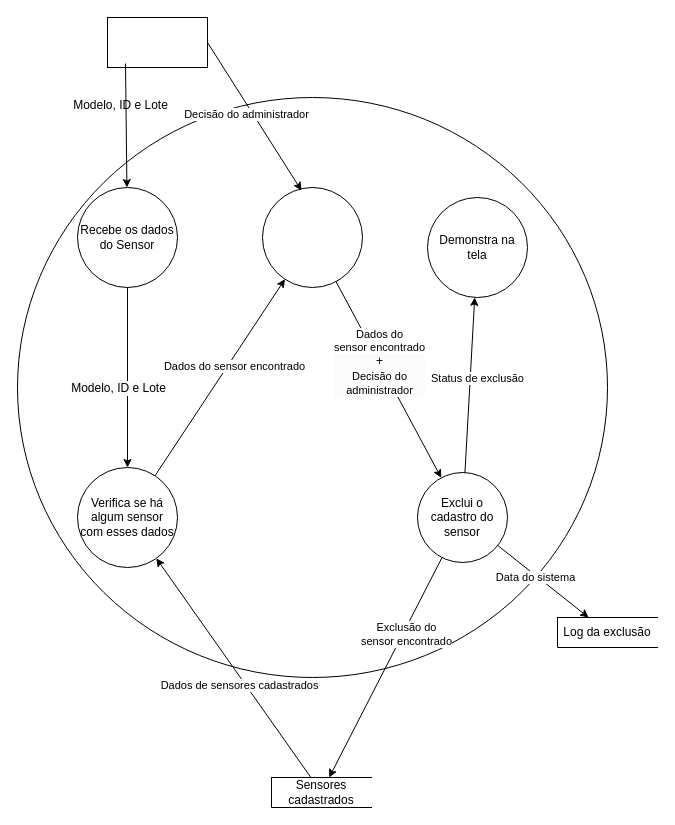
Image size: 675x825. Some labels were removed from this diagram. The box of each missing label's shape, as (x1, y1, x2, y2) in pixels:
Administrador confirma a exclusão: (262, 186, 362, 288)
Admnistrador: (106, 16, 208, 68)
